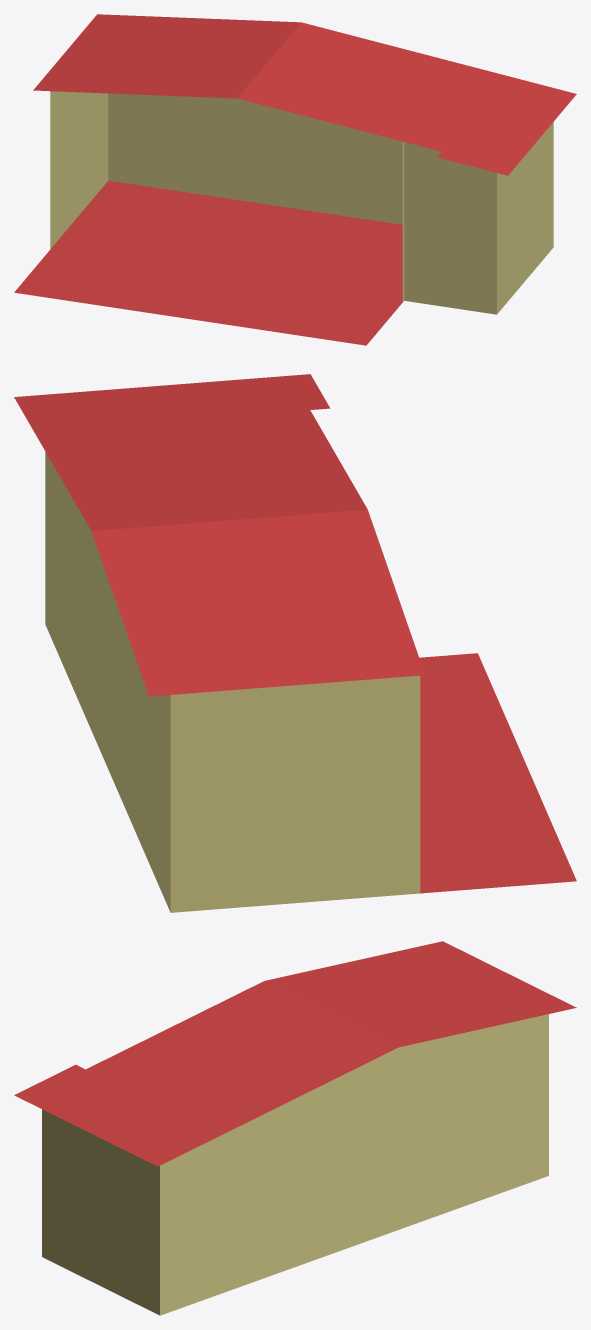
3 views of the same model, one above another, from view 1: azimuth 30°, elevation 25°; view 2: azimuth 150°, elevation 25°; view 3: azimuth 270°, elevation 25° (orthographic). The views are drawn at different scales.
Bounding box in the file's own units: 29.72 × 28.32 × 10.74.
